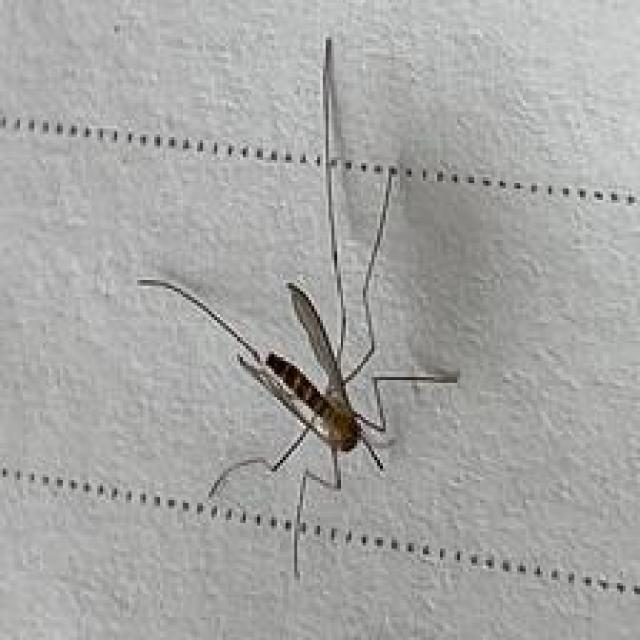Culex: (136, 36, 461, 578)
